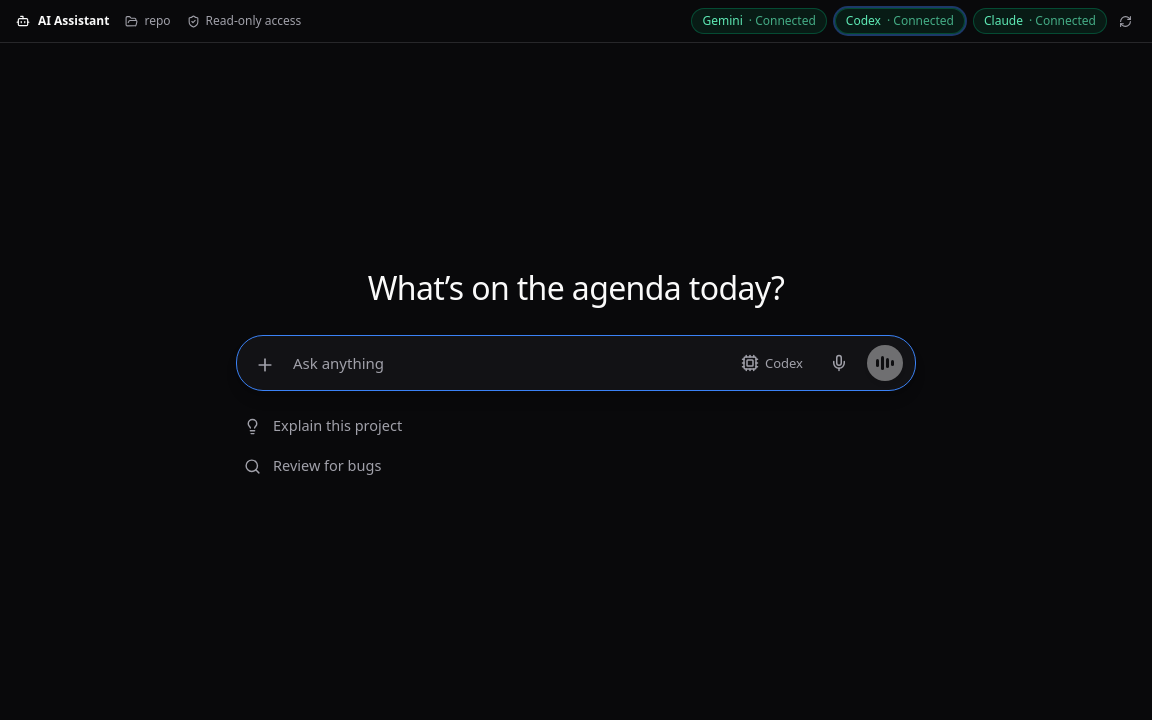
Scenario: uses the saved provider and waits for a complete response when streaming is disabled
Type "Review the changes" into the text box with placeholder "Ask anything" at (507, 363), box [285,345,729,381]
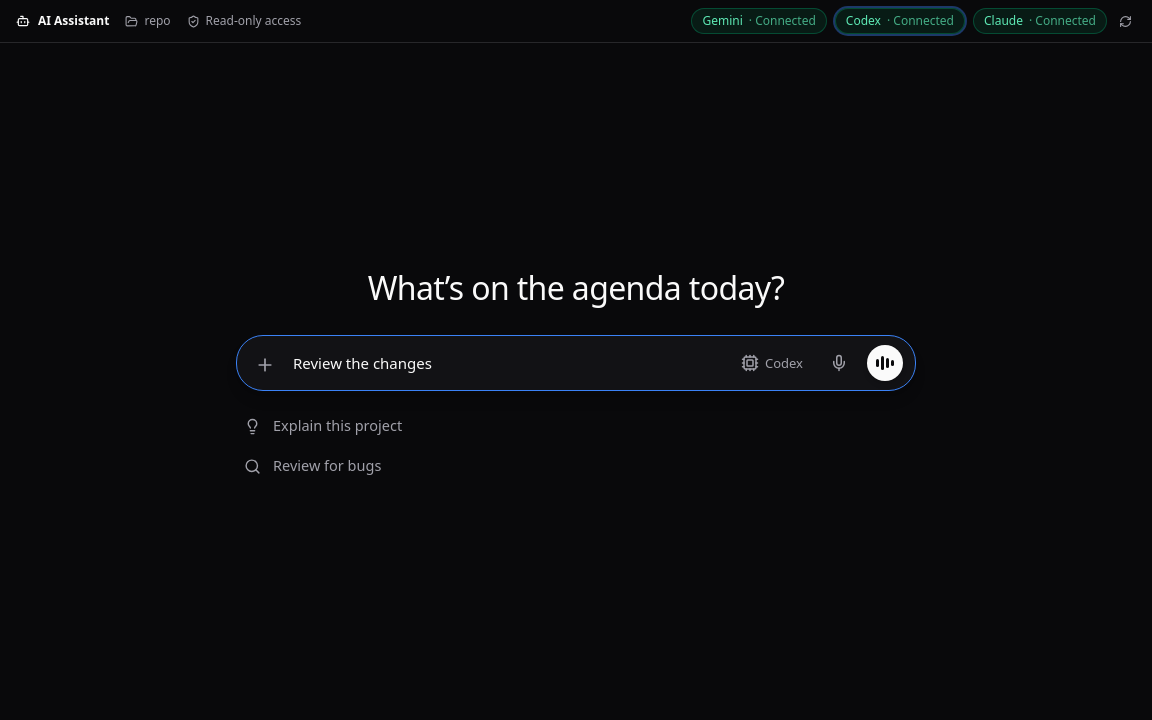
Click the button titled "Send instruction" at (885, 363), box [867,345,903,381]
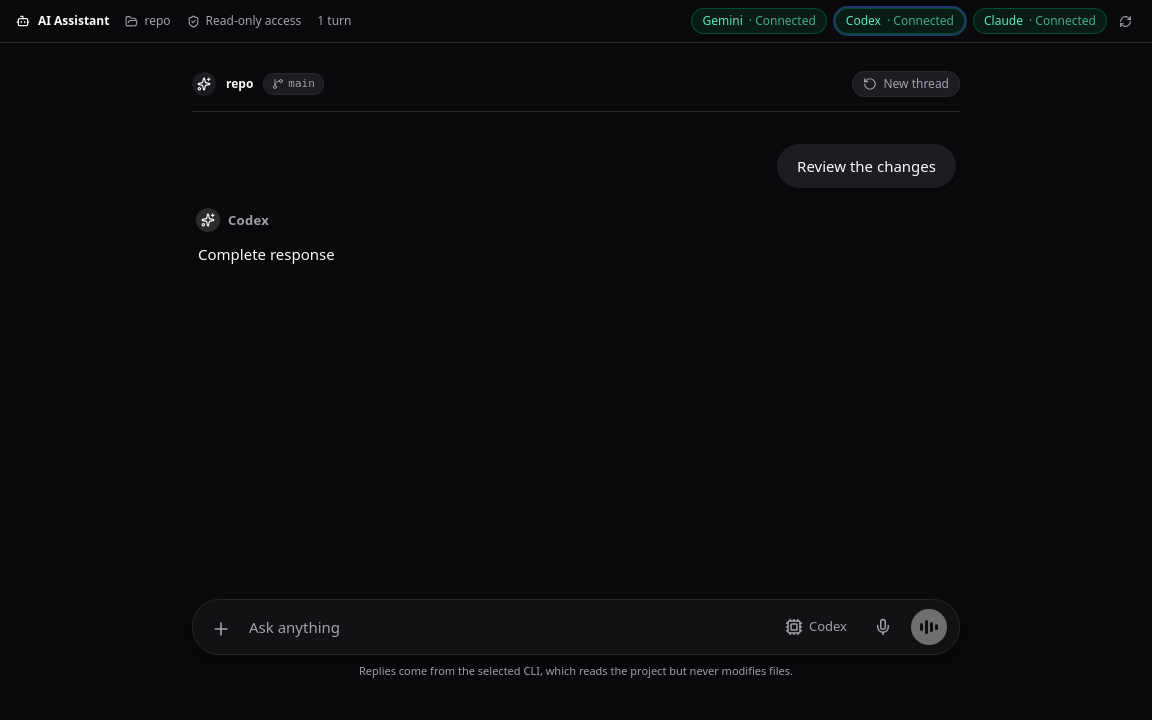
Check: the element showing "Review the changes Codex Complete response" does not show "partial response", box [196,144,956,264]
Check: the element showing "Review the changes Codex Complete response" is shown, box [196,144,956,264]
